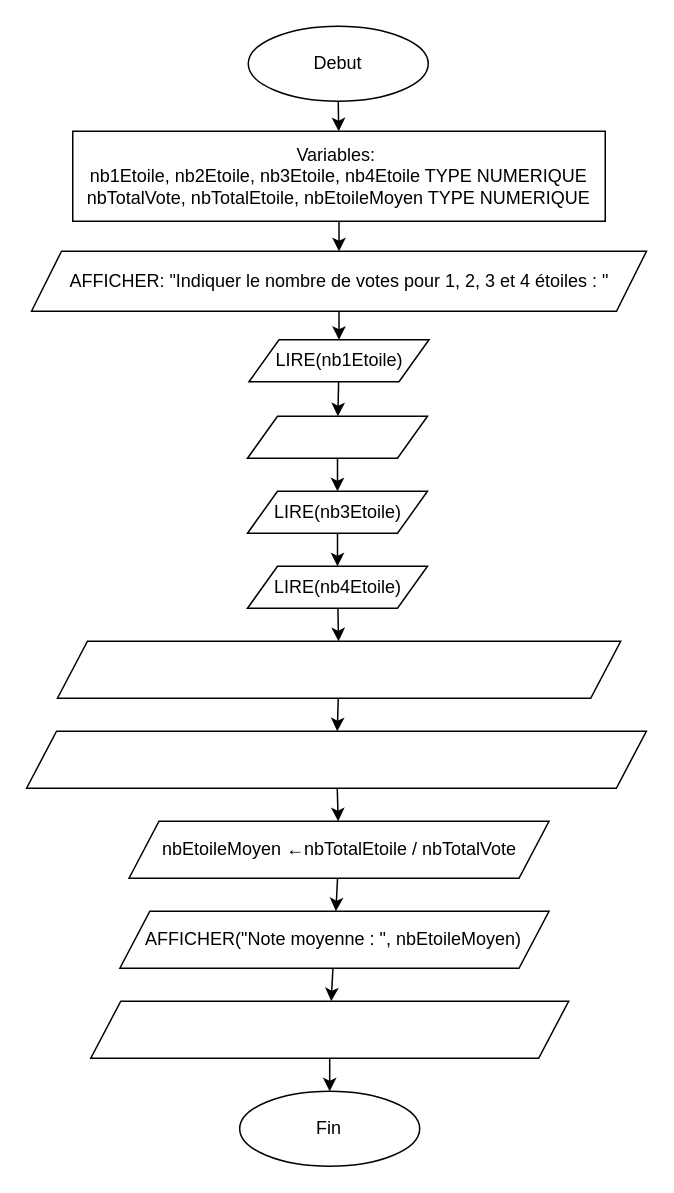
This 674x1193 diagram has some shape labels left out. Here are the shapes that lost their labels. From the top down, the box of each, then its label:
(246, 415, 428, 458): LIRE(nb2Etoile)
(56, 640, 621, 698): nbTotalVote ← nb1Etoile + nb2Etoile + nb3Etoile + nb4Etoile
(25, 730, 646, 788): nbTotalEtoile ←nb1Etoile*1 + nb2Etoile*2 + nb3Etoile*3 + nb4Etoile*4
(89, 1000, 569, 1058): AFFICHER("Nombre total de votes : ", nbTotalVote)
